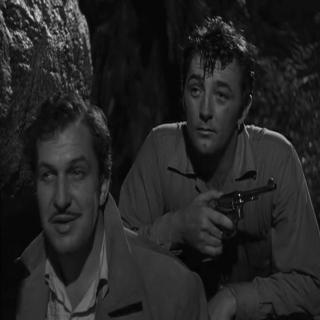gun: (192, 166, 284, 264)
